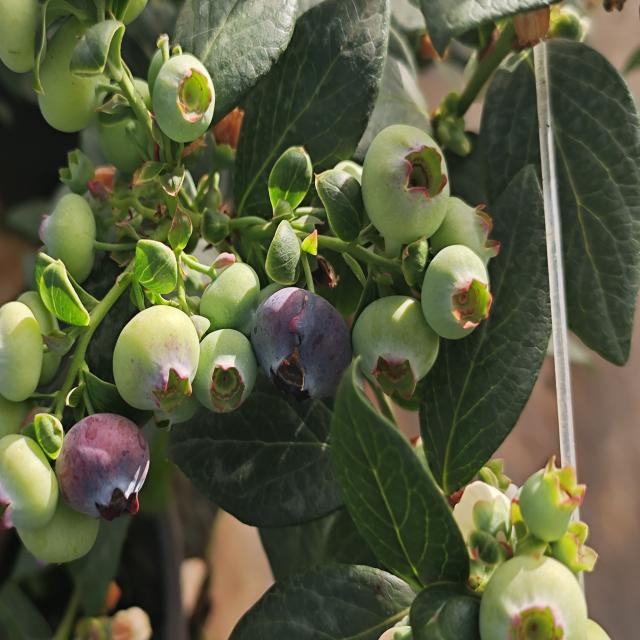ripe: (250, 287, 358, 396), (53, 412, 158, 521)
